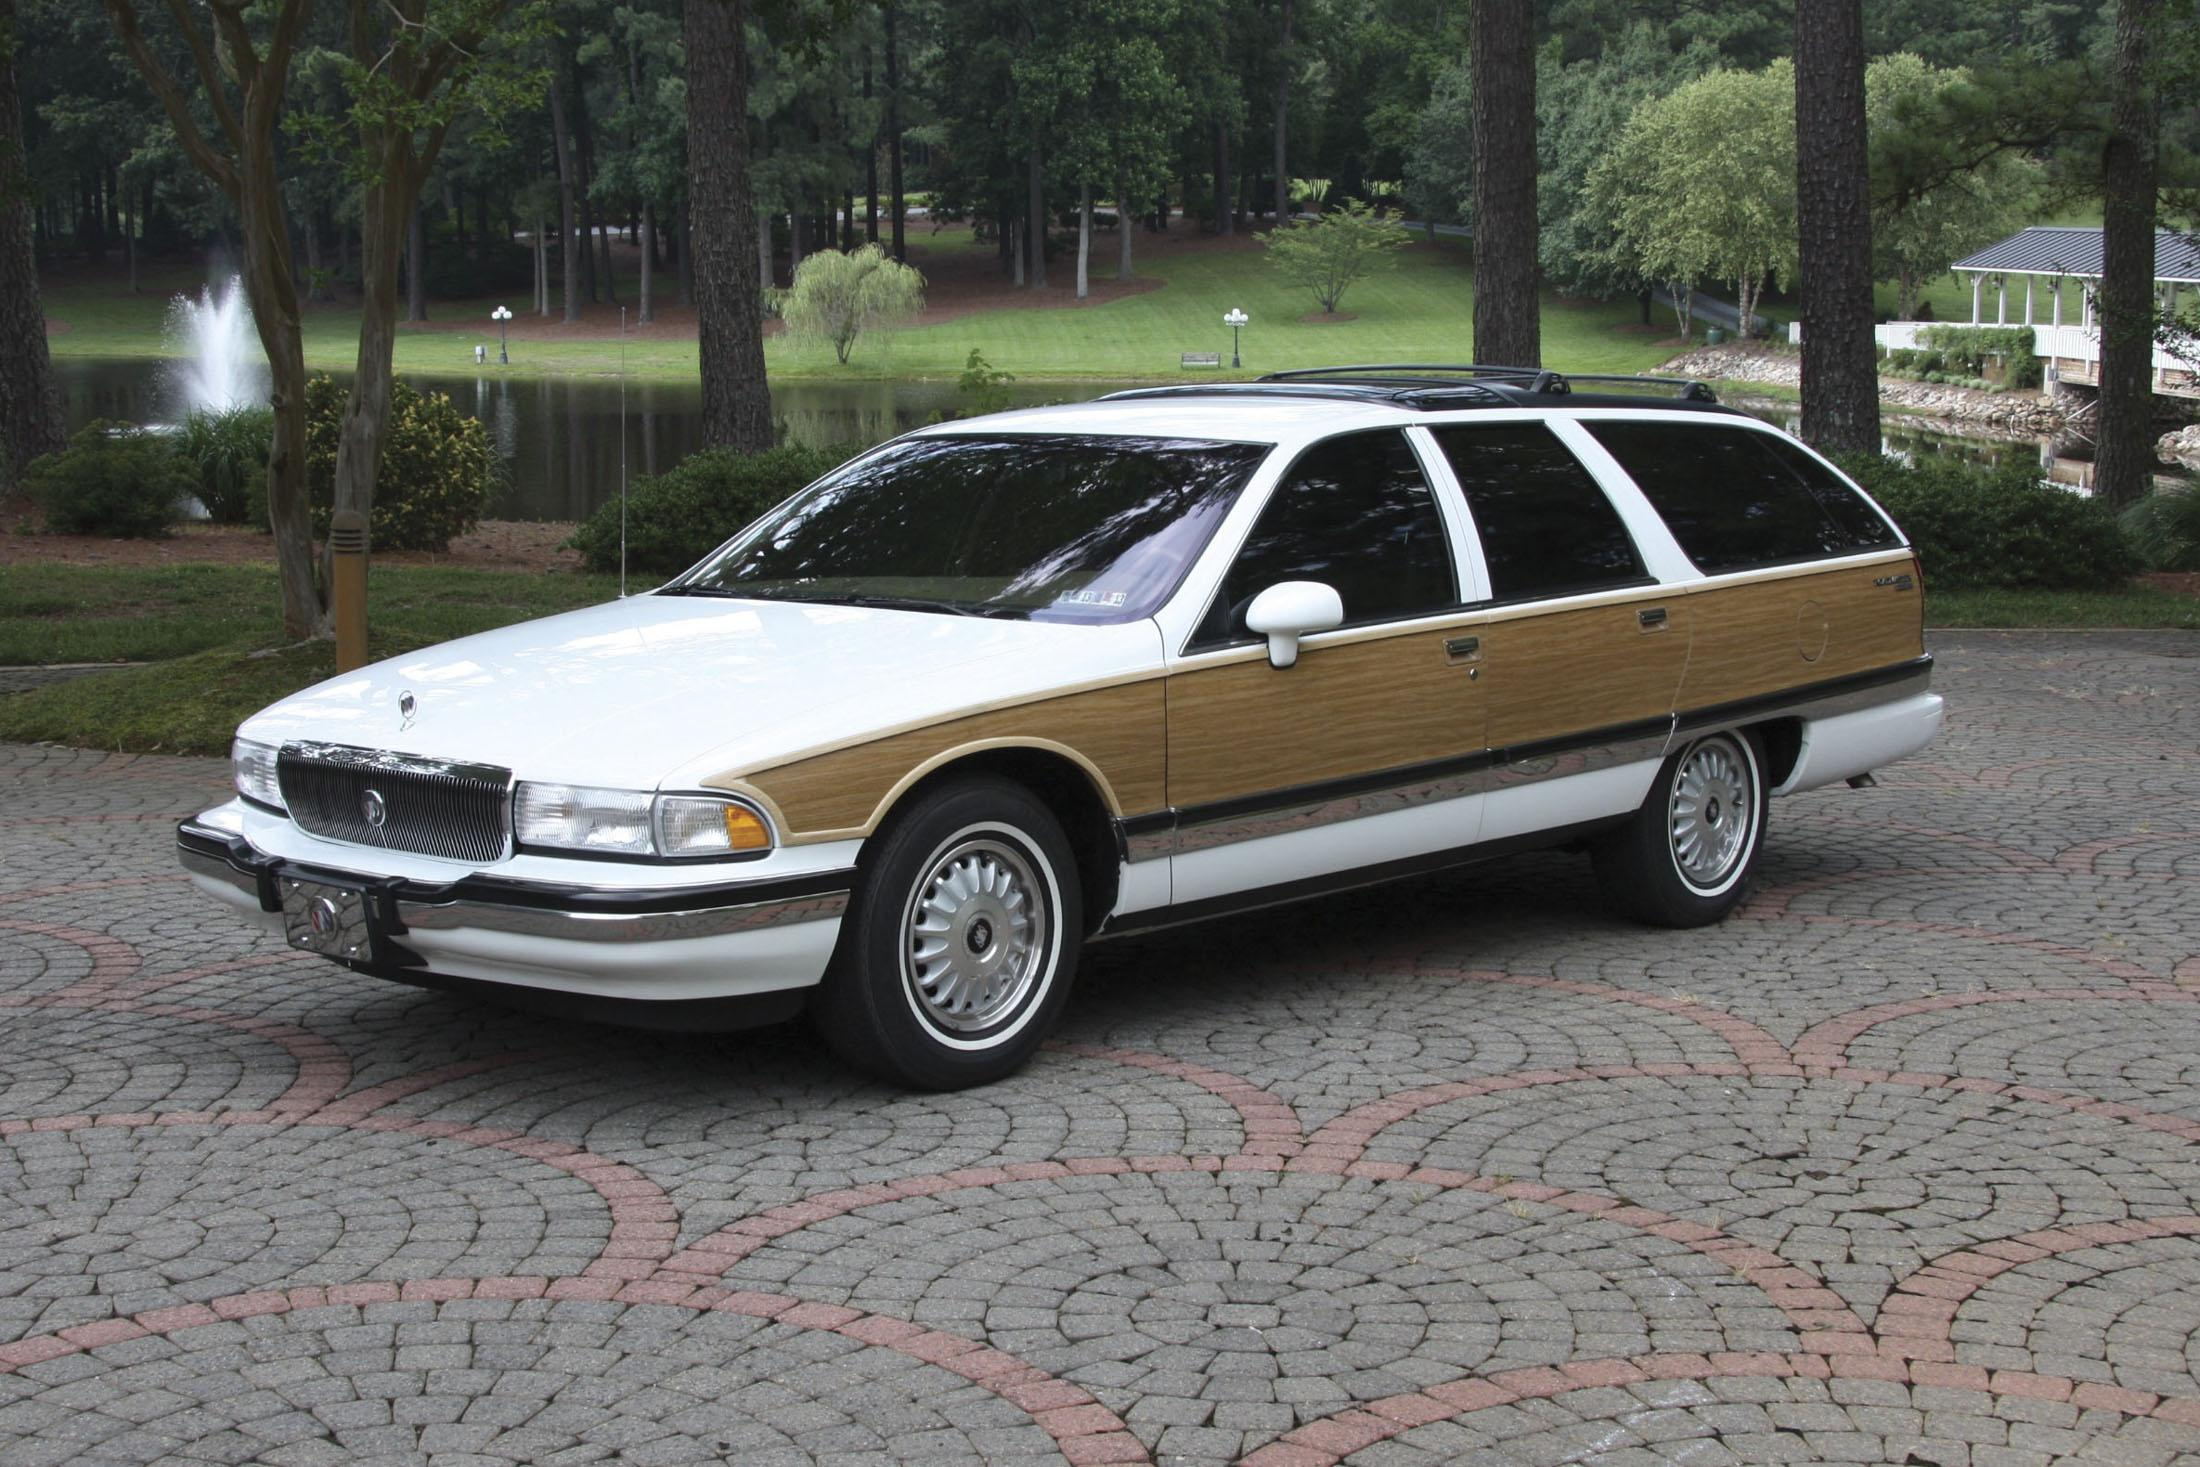car: (211, 327, 1972, 1100)
